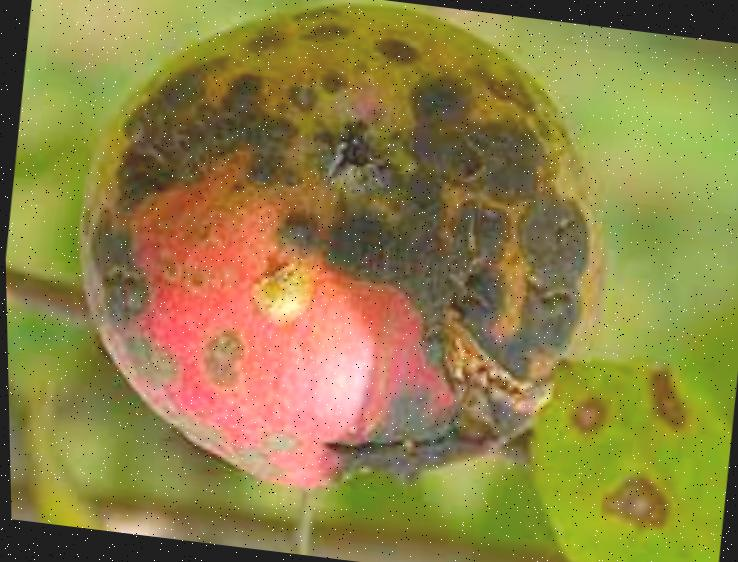SCAB: (15, 0, 720, 550)
